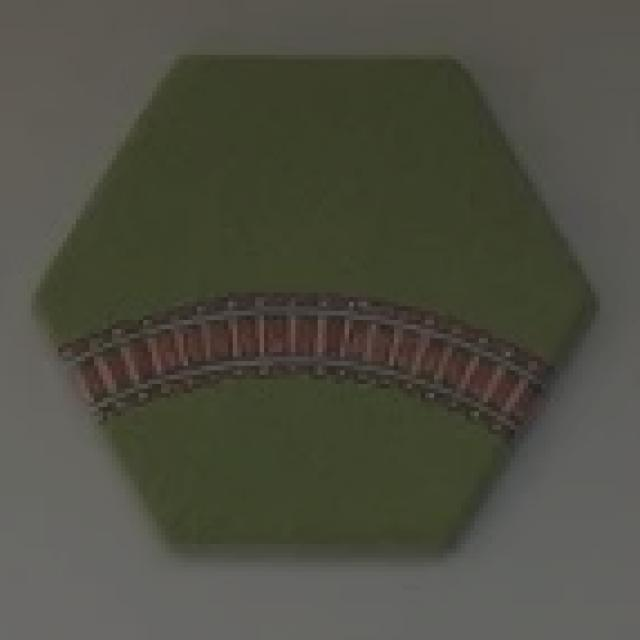2_0: (29, 55, 602, 559)
